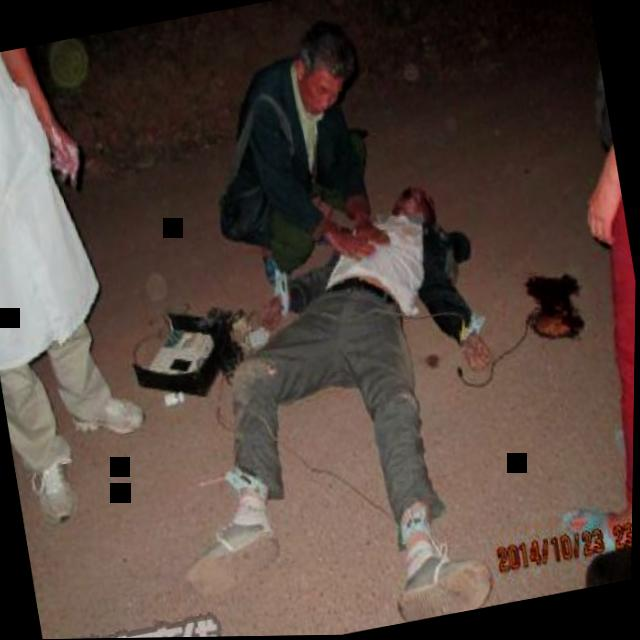Fall-Detected: (118, 142, 539, 639)
